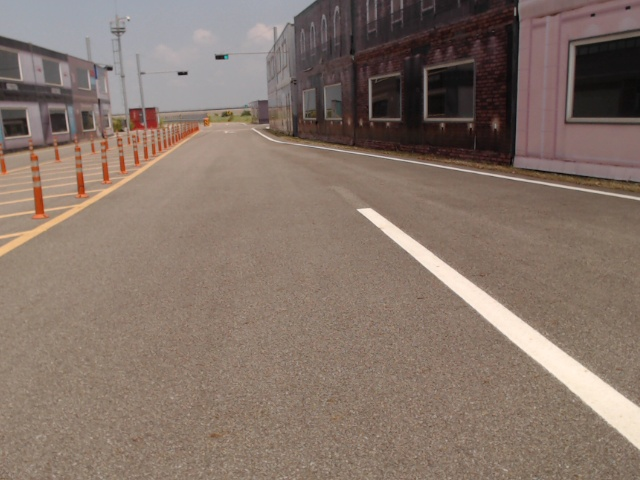green_3: (215, 54, 229, 60)
